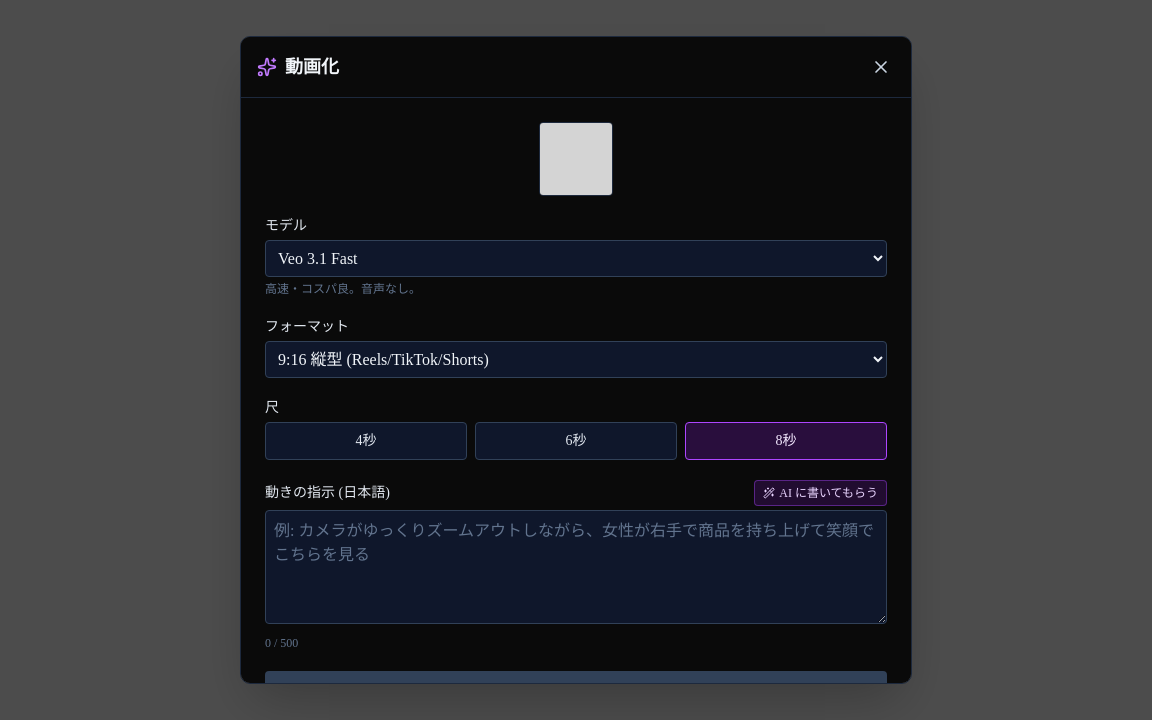
尺の既定値と選択 › プロバイダが扱える尺だけをボタンに出す
Expected: the button "4秒" is shown, [265,422,467,460]
Expected: the text "10秒" is not shown
Select "Kling 2.1 Standard" in the dropdown showing "Veo 3.1 Fast" below "モデル": (576, 258) [265,240,887,277]
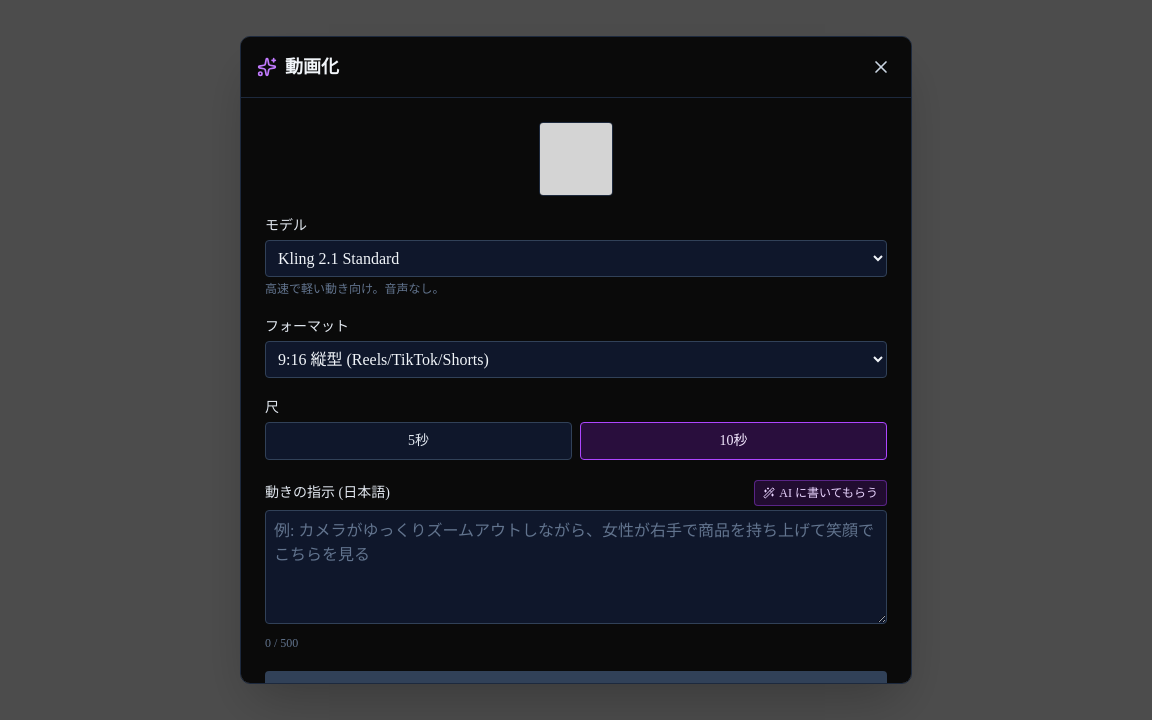
Now the button "5秒" is shown, box [265,422,572,460]
Now the button "10秒" is shown, box [580,422,887,460]
Now the button "4秒" is gone
